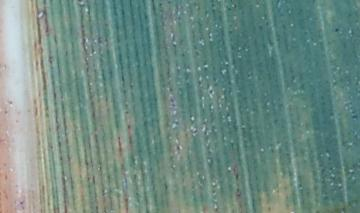tarspot: (161, 181, 170, 192), (207, 87, 216, 96), (196, 78, 204, 87), (175, 142, 181, 154), (333, 26, 341, 34), (2, 108, 10, 116), (256, 23, 264, 31), (6, 99, 15, 106), (125, 122, 132, 131), (350, 114, 360, 120), (234, 171, 240, 181), (272, 117, 278, 127), (180, 51, 187, 59), (234, 185, 241, 193), (233, 192, 241, 199), (167, 86, 174, 93), (264, 20, 270, 28), (18, 200, 26, 205)
